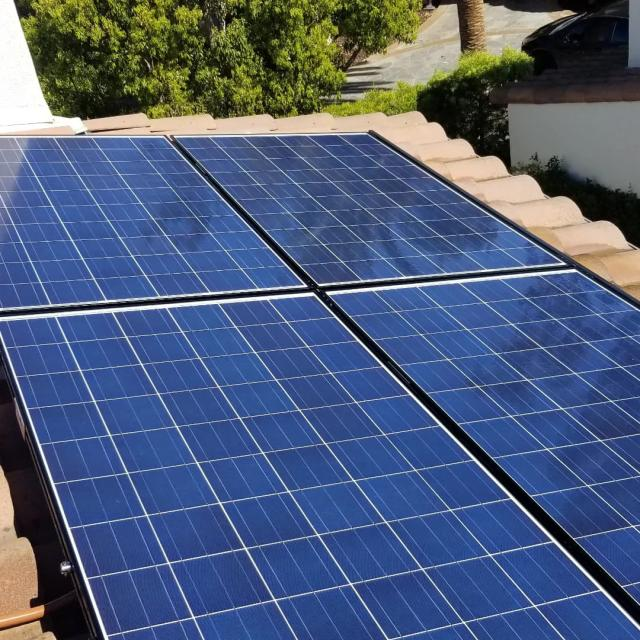clean-solar-panel: (0, 121, 640, 640)
